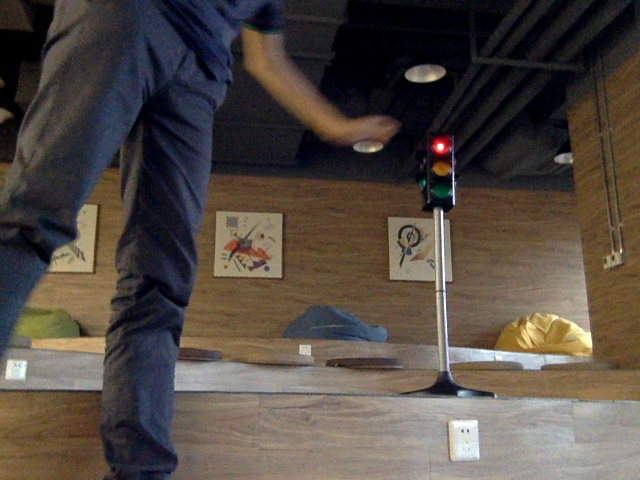red: (428, 139, 454, 205)
